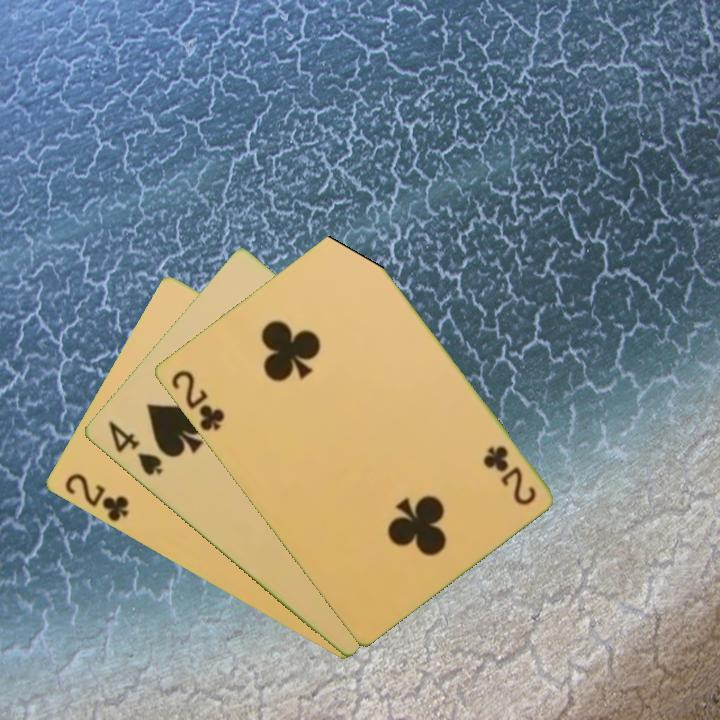2c: (167, 366, 227, 434), (60, 469, 132, 525), (479, 441, 539, 508)
4s: (104, 417, 166, 479)
